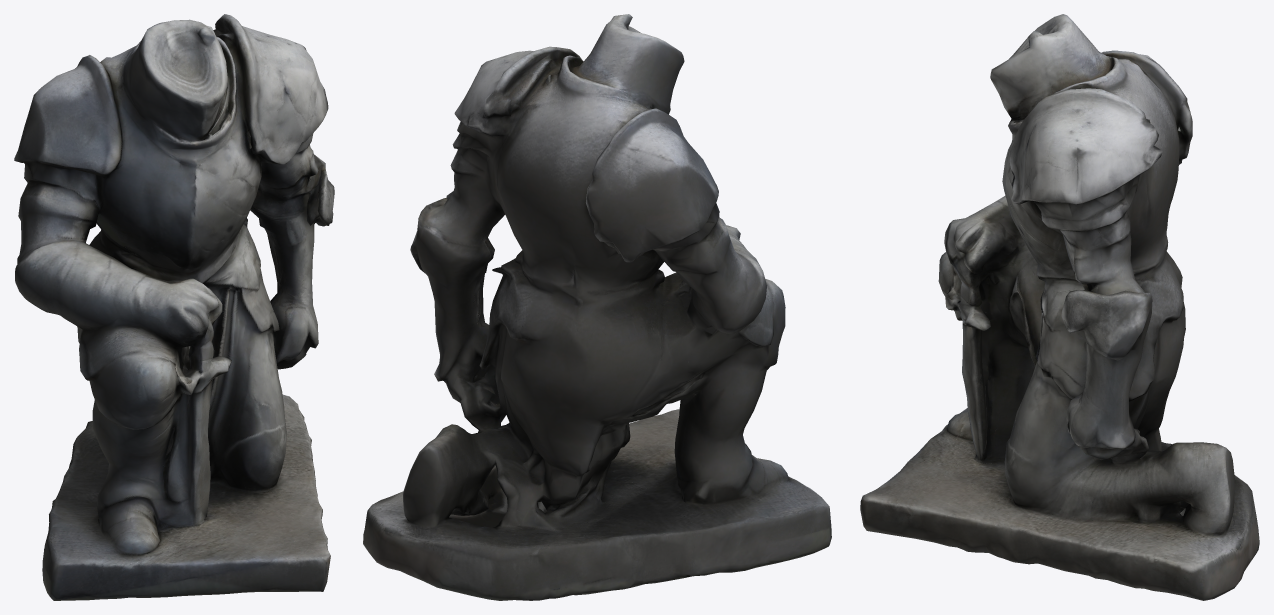
The model's file is broken_statue.glb.
The picture shows the model from 3 angles, left to right: view 1: azimuth 30°, elevation 25°; view 2: azimuth 150°, elevation 25°; view 3: azimuth 270°, elevation 25°; orthographic projection. The views are drawn at different scales.
Bounding box in the file's own units: 1.45 × 2 × 1.48.
Materials: 1 (1 with a texture image).
